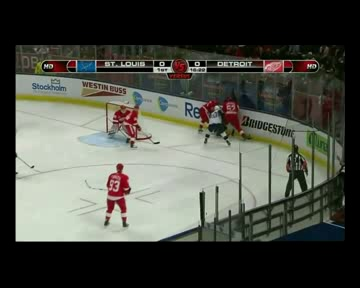normal: (103, 97, 160, 151), (100, 160, 138, 227), (206, 98, 248, 149), (277, 141, 314, 193)
